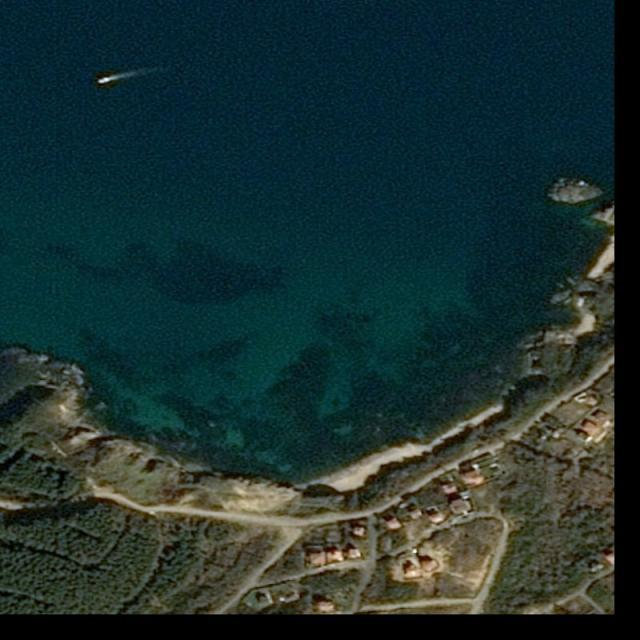ship: (96, 75, 111, 86)
